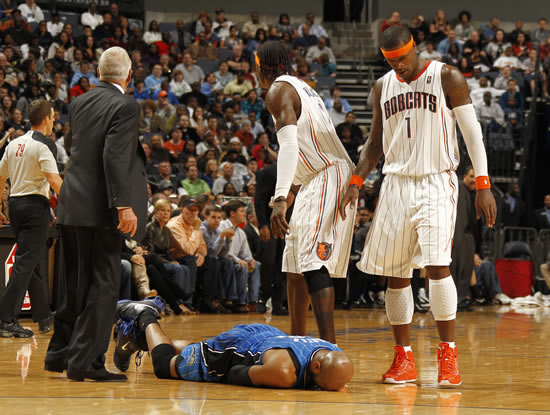10+: (1, 1, 547, 410)
down: (94, 291, 357, 396)
